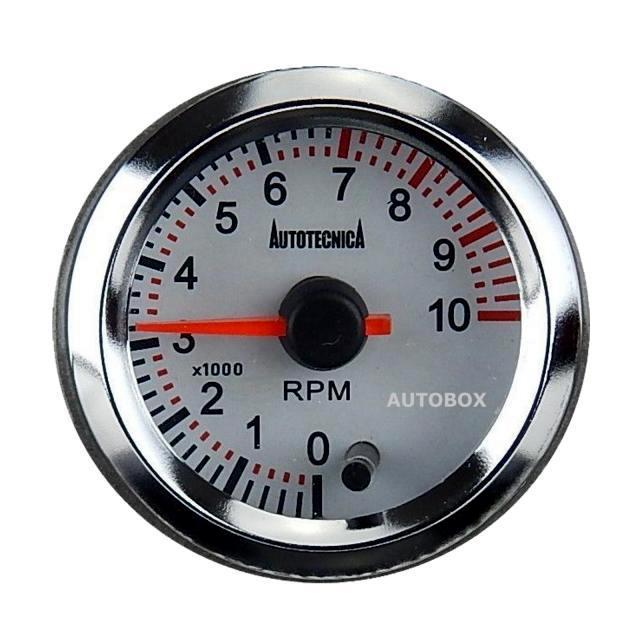Needle_Tip: (116, 303, 202, 352)
Needle_base: (276, 271, 371, 377)
max_value: (415, 285, 500, 339)
min_value: (290, 412, 353, 474)
